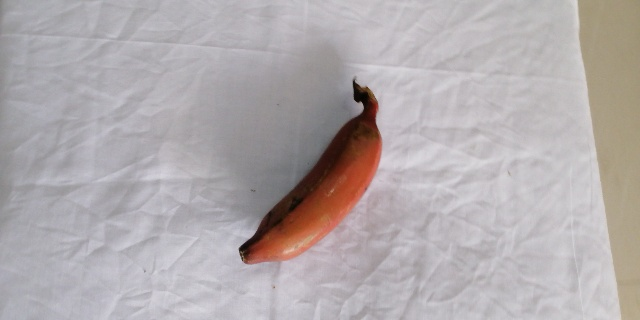banana_red: (238, 79, 382, 261)
